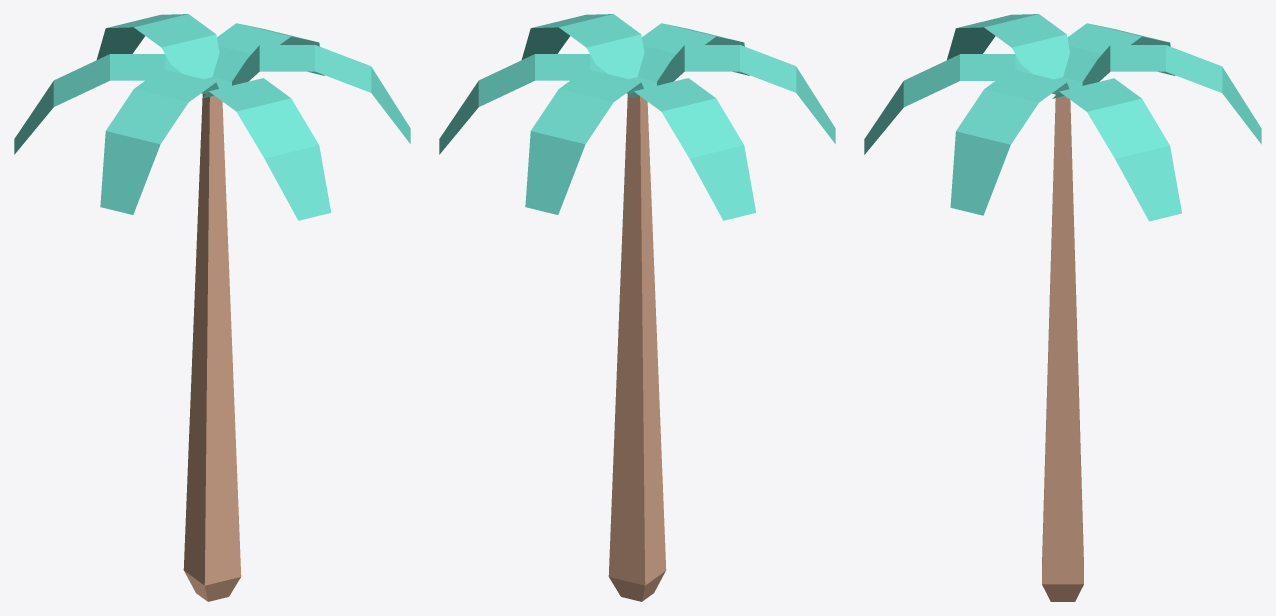
The model's file is tree_palm.glb.
3 renders of one model, left to right at view 1: azimuth 30°, elevation 25°; view 2: azimuth 150°, elevation 25°; view 3: azimuth 270°, elevation 25°, orthographic.
Parts seen in each view (by area): view 1: tree_palm; view 2: tree_palm; view 3: tree_palm.
Boxes of the visible parts, left/top/right/bottom form: tree_palm: left=14, top=14, right=410, bottom=601; tree_palm: left=439, top=14, right=835, bottom=601; tree_palm: left=864, top=14, right=1261, bottom=601.
Bounding box in the file's own units: 0.9355 × 1.51 × 1.01.
Materials: 1 (1 with a texture image).
